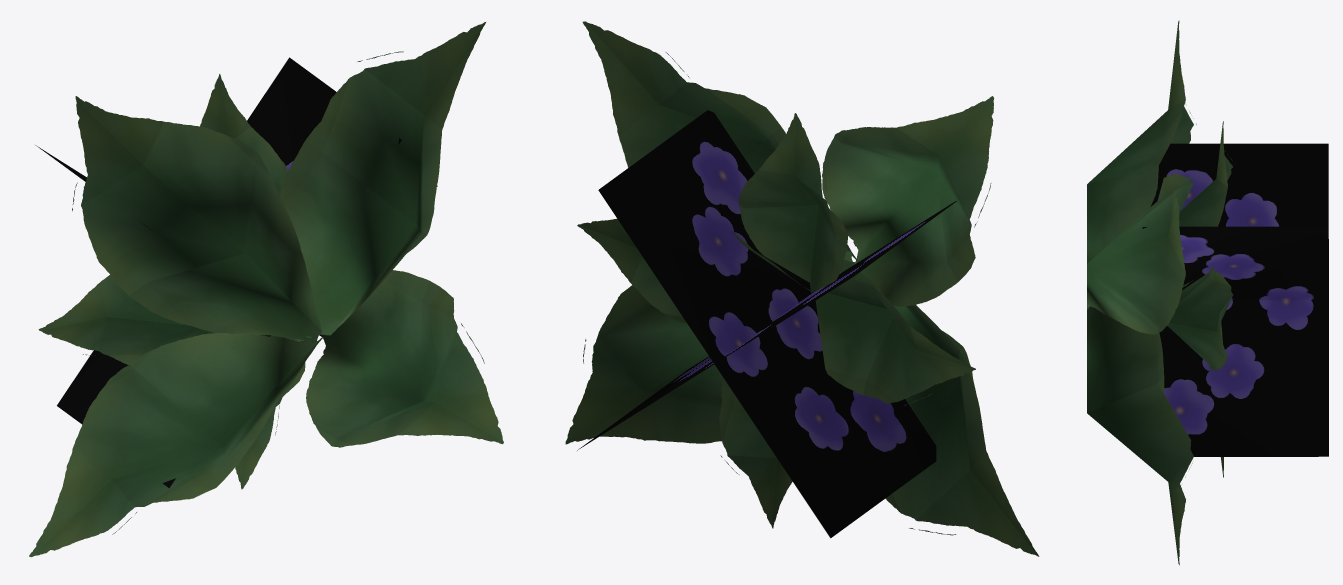
Rendered from lilacflfbx.fbx.
3 views of the same model, side by side, from view 1: azimuth 30°, elevation 25°; view 2: azimuth 150°, elevation 25°; view 3: azimuth 270°, elevation 25° (orthographic). The views are drawn at different scales.
Visible parts, largest first — view 1: Plane.004; view 2: Plane.004; view 3: Plane.004.
Boxes of the visible parts, x1,y1,x2,y2 form: Plane.004: [29, 22, 503, 557]; Plane.004: [565, 21, 1039, 556]; Plane.004: [1087, 20, 1328, 565].
Size of the model in its own units: 360 by 353 by 181.
